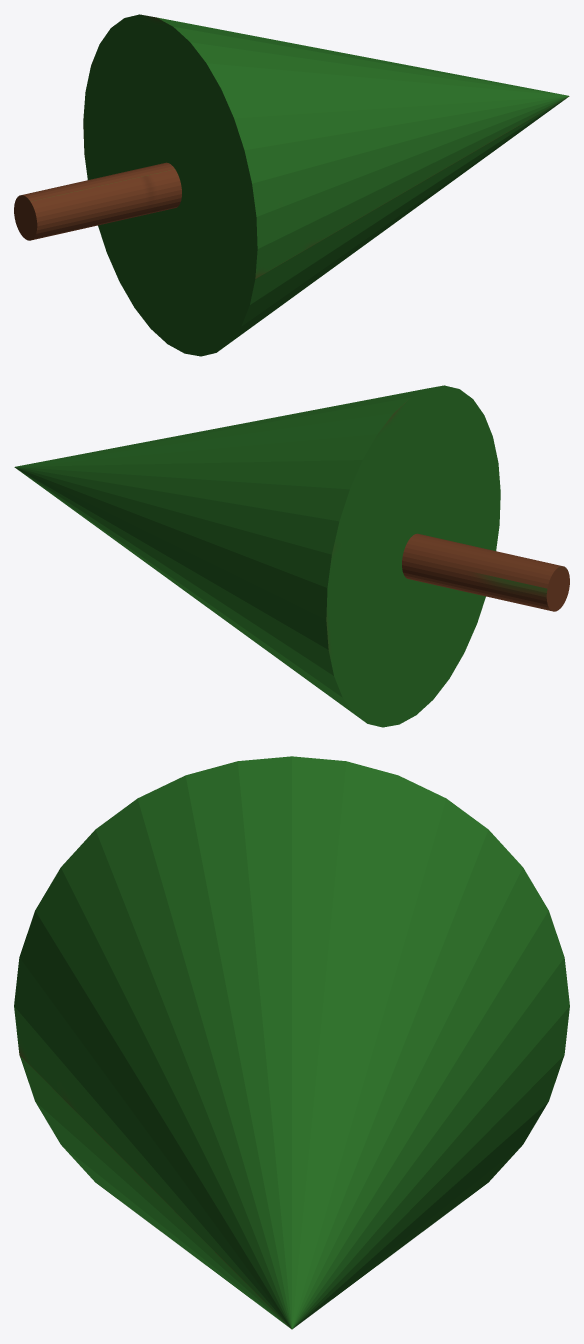
The model's file is tree for midterm.obj.
The picture shows the model from 3 angles, top to bottom: view 1: azimuth 30°, elevation 25°; view 2: azimuth 150°, elevation 25°; view 3: azimuth 270°, elevation 25°; orthographic projection. The views are drawn at different scales.
Visible parts, largest first — view 1: Cylinder; view 2: Cylinder; view 3: Cylinder.
Boxes of the visible parts, <box> form: Cylinder: <box>14,14,569,356</box>; Cylinder: <box>14,385,569,727</box>; Cylinder: <box>14,756,569,1329</box>.
Bounding box in the file's own units: 2.22 × 1.23 × 1.23.
